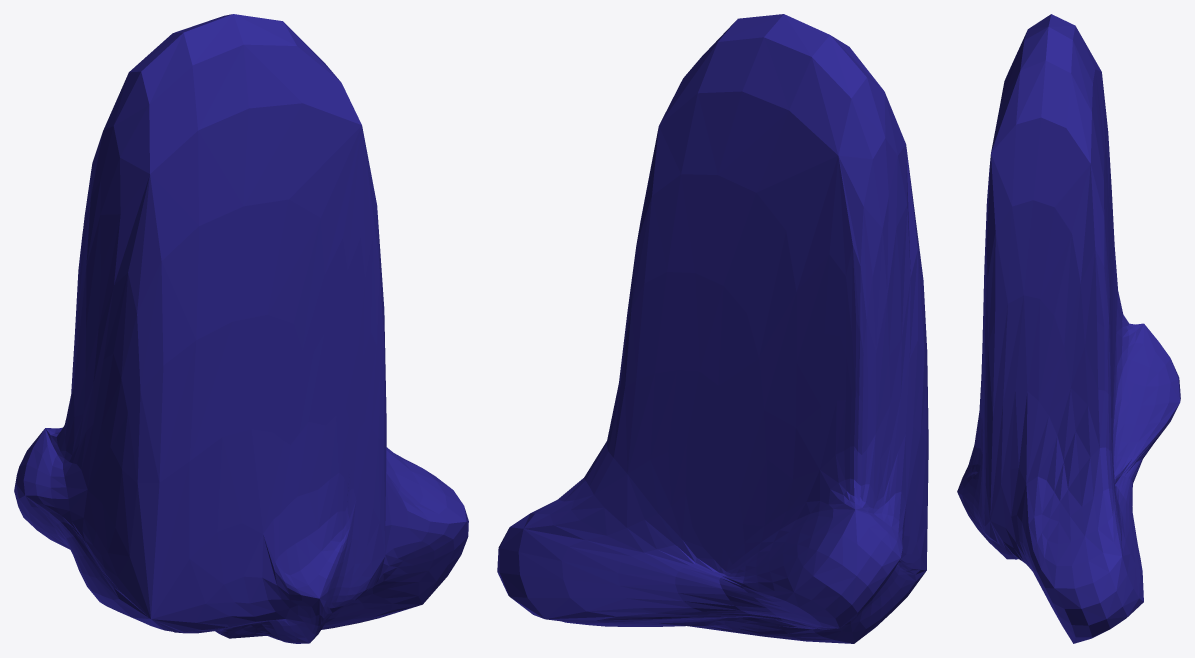
The picture shows the model from 3 angles, left to right: view 1: azimuth 30°, elevation 25°; view 2: azimuth 150°, elevation 25°; view 3: azimuth 270°, elevation 25°; orthographic projection. The views are drawn at different scales.
Parts seen in each view (by area): view 1: 860_Cube.3477; view 2: 860_Cube.3477; view 3: 860_Cube.3477.
Boxes of the visible parts, x1,y1,x2,y2 form: 860_Cube.3477: (14,14,468,643); 860_Cube.3477: (497,14,928,643); 860_Cube.3477: (957,14,1180,643).
Size of the model in its own units: 8.45 by 12.56 by 4.76.
